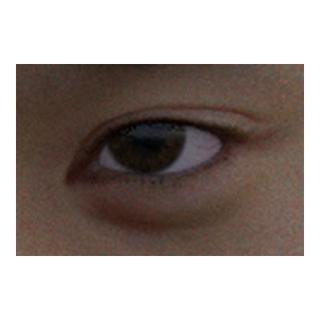pupil: (132, 120, 160, 148)
